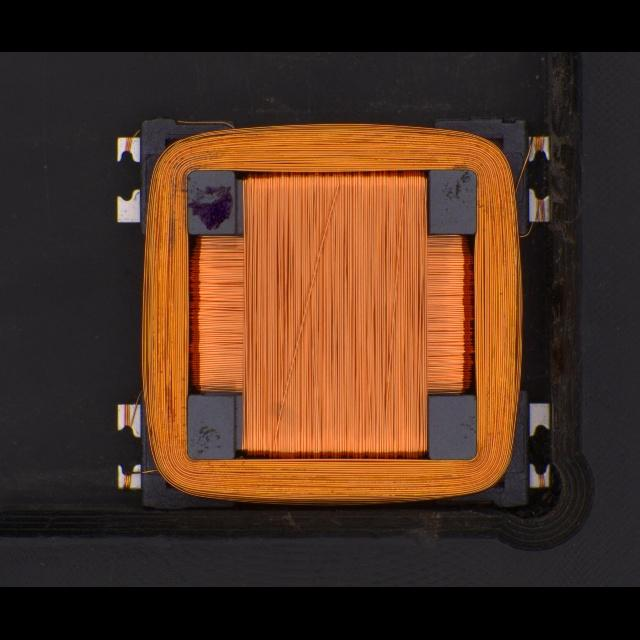Winding_Z: (138, 119, 525, 506)
